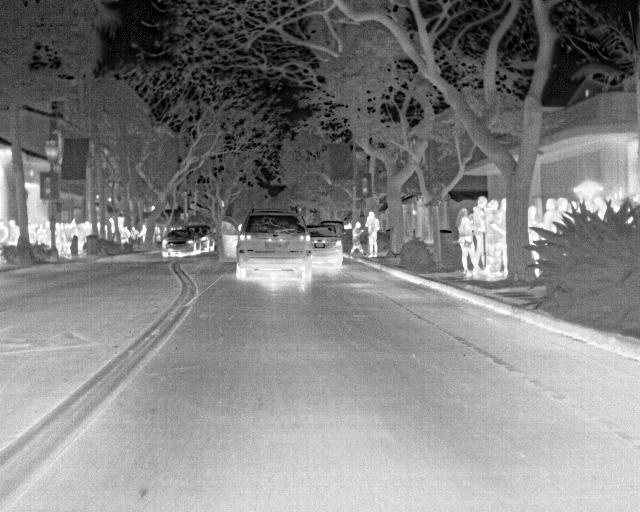bicycle: (234, 205, 315, 283), (305, 223, 347, 269), (160, 232, 198, 260), (184, 224, 217, 253)
empty: (456, 210, 482, 276), (483, 197, 507, 239), (526, 205, 540, 277), (363, 209, 382, 259), (542, 200, 564, 234), (347, 223, 366, 255), (5, 219, 23, 247), (138, 223, 150, 244)
